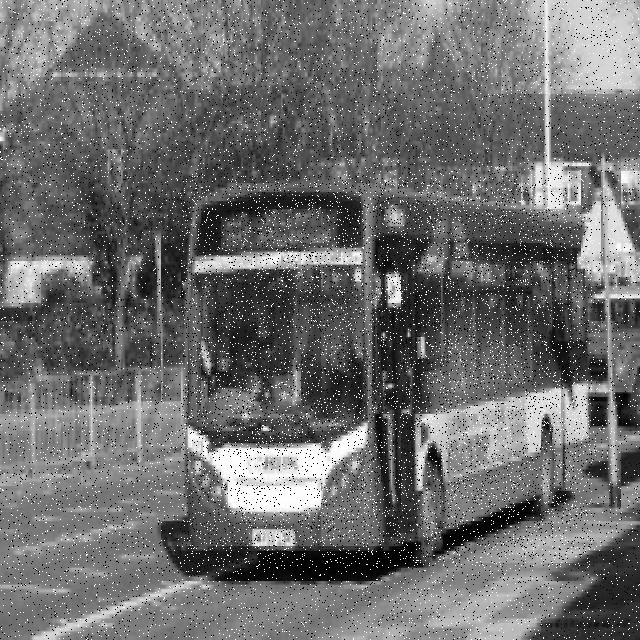Bus: (182, 176, 592, 566)
